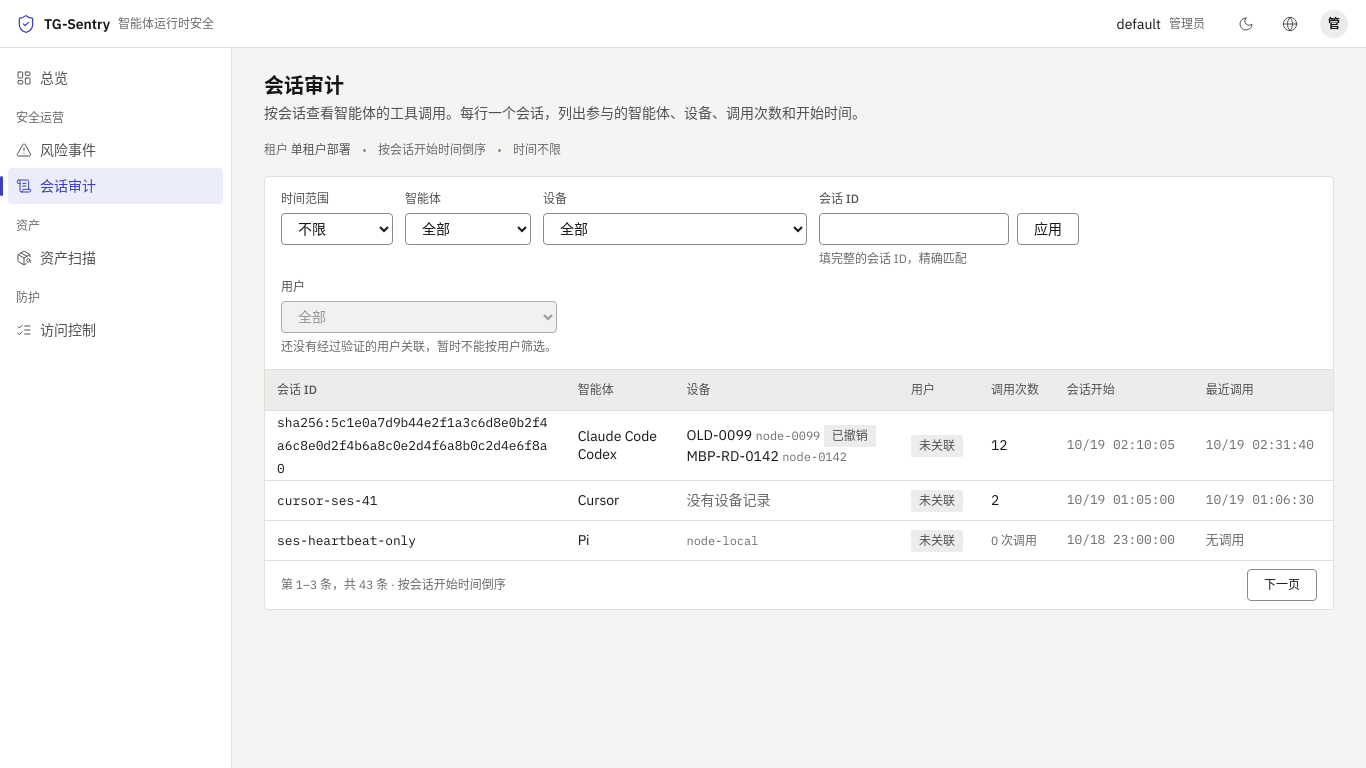
Scenario: session evidence drawer › shows restricted input and output as state badges while retaining allowed script metadata
Click the link "sha256:5c1e0a7d9b44e2f1a3c6d8e0b2f4a6c8e0d2f4b6a8c0e2d4f6a8b0c2d4e6f8a0".
click(412, 422)  # box x1=277 y1=414 x2=547 y2=476
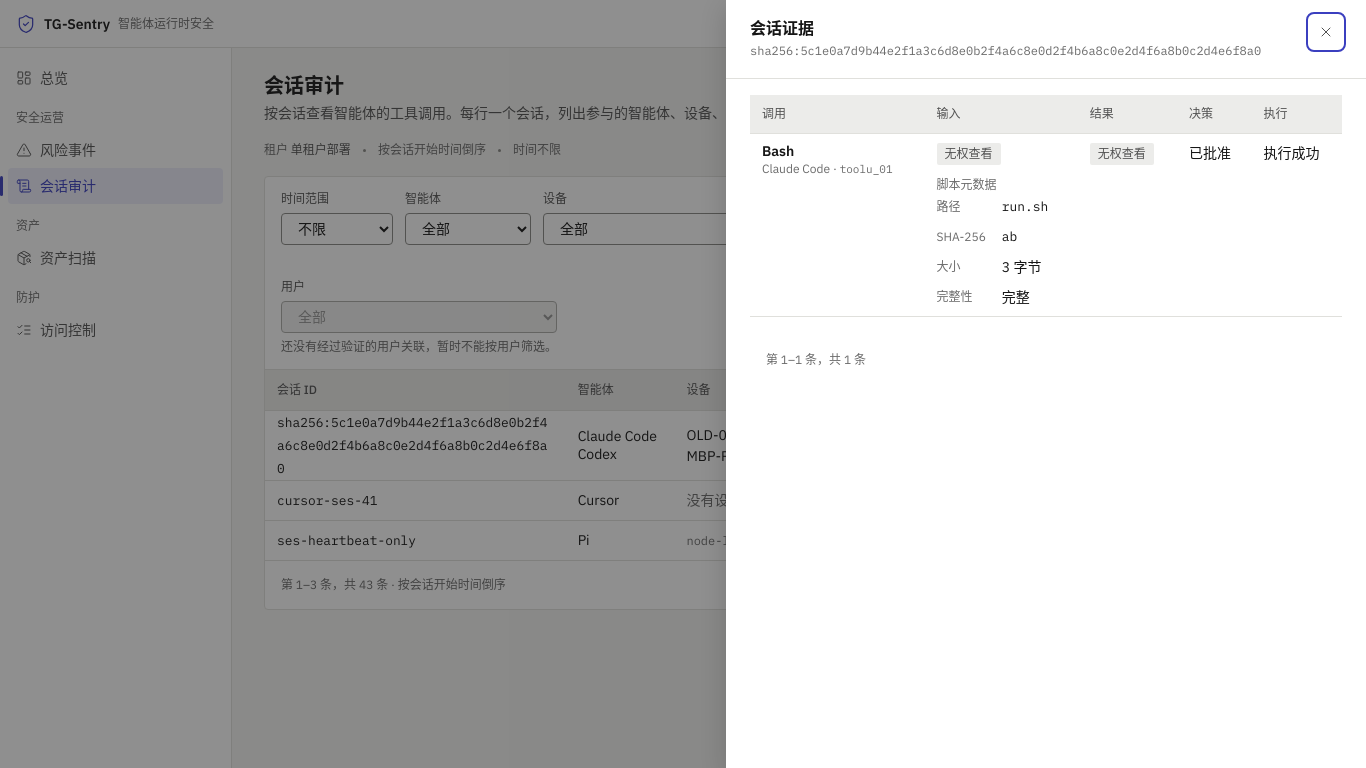
Result: the text "无权查看" is shown 2 times at x1=936 y1=143 x2=1000 y2=165; x1=1090 y1=143 x2=1154 y2=165
Result: the row that starts with "Bash" shows "run.sh" at x1=1002 y1=198 x2=1048 y2=215
Result: the row that starts with "Bash" shows "3 字节" at x1=1002 y1=258 x2=1042 y2=276
